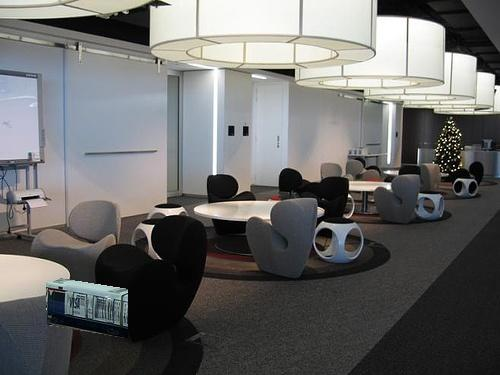tampered: (47, 279, 128, 338)
